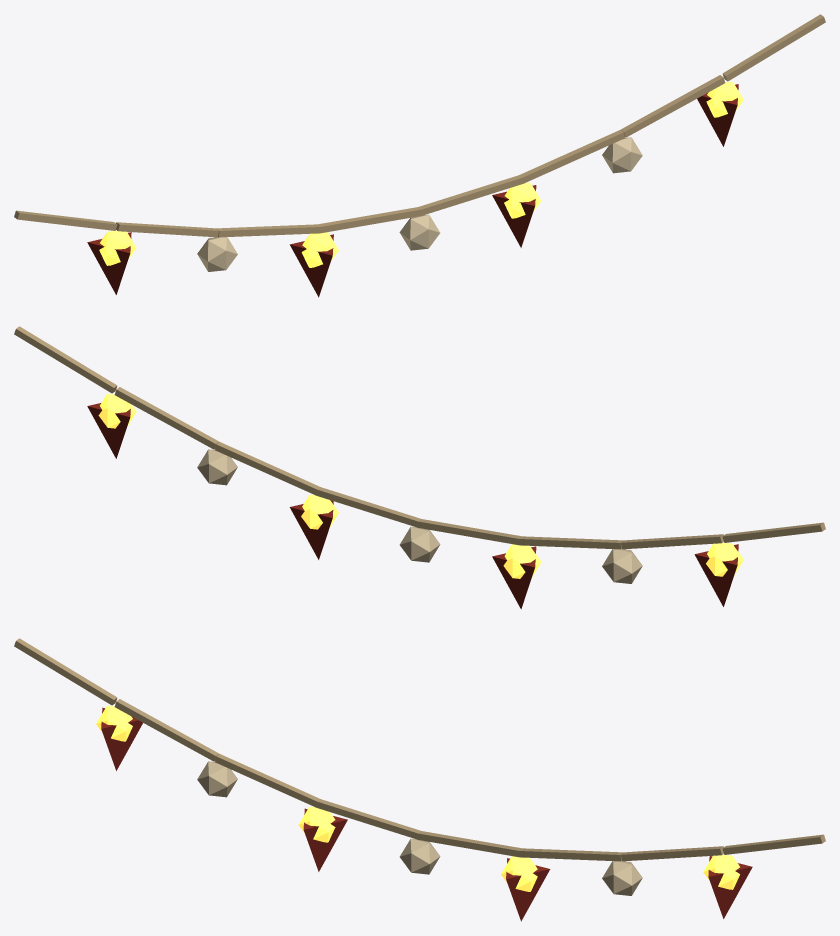
File: ember_garland.glb
3 views of the same model, one above another, from view 1: azimuth 30°, elevation 25°; view 2: azimuth 150°, elevation 25°; view 3: azimuth 330°, elevation 25° (orthographic).
Parts seen in each view (by area): view 1: ember_garland; view 2: ember_garland; view 3: ember_garland.
Part boxes in pixels (box(x1,y1,x2,y2)): ember_garland: box(14, 14, 825, 297); ember_garland: box(14, 326, 825, 609); ember_garland: box(14, 638, 825, 921).
Bounding box in the file's own units: 1.6 × 0.3009 × 0.0798.
